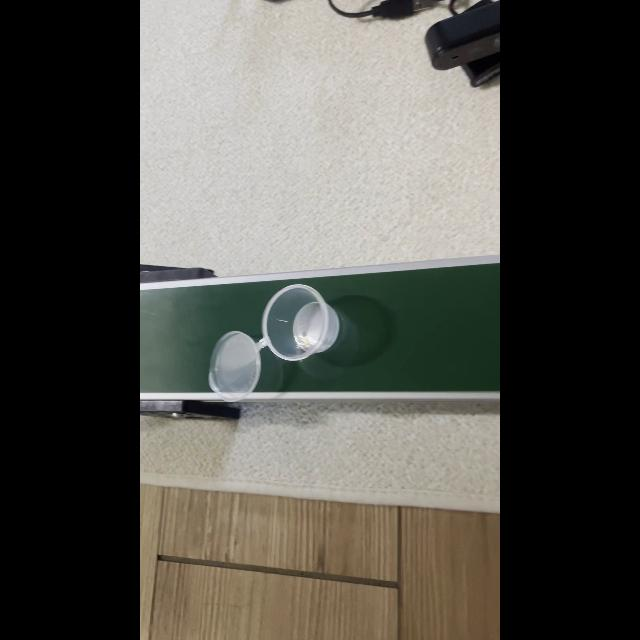clean: (208, 284, 336, 398)
